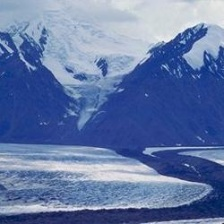neutral: (2, 7, 222, 219)
